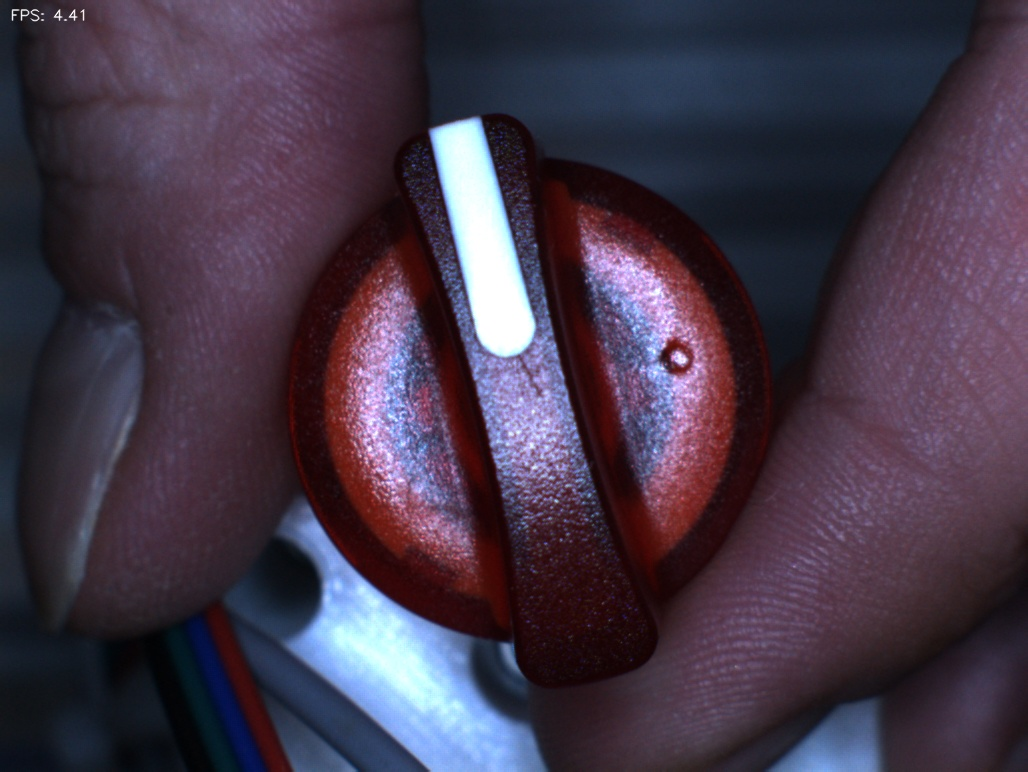Choc: (645, 312, 724, 391)
